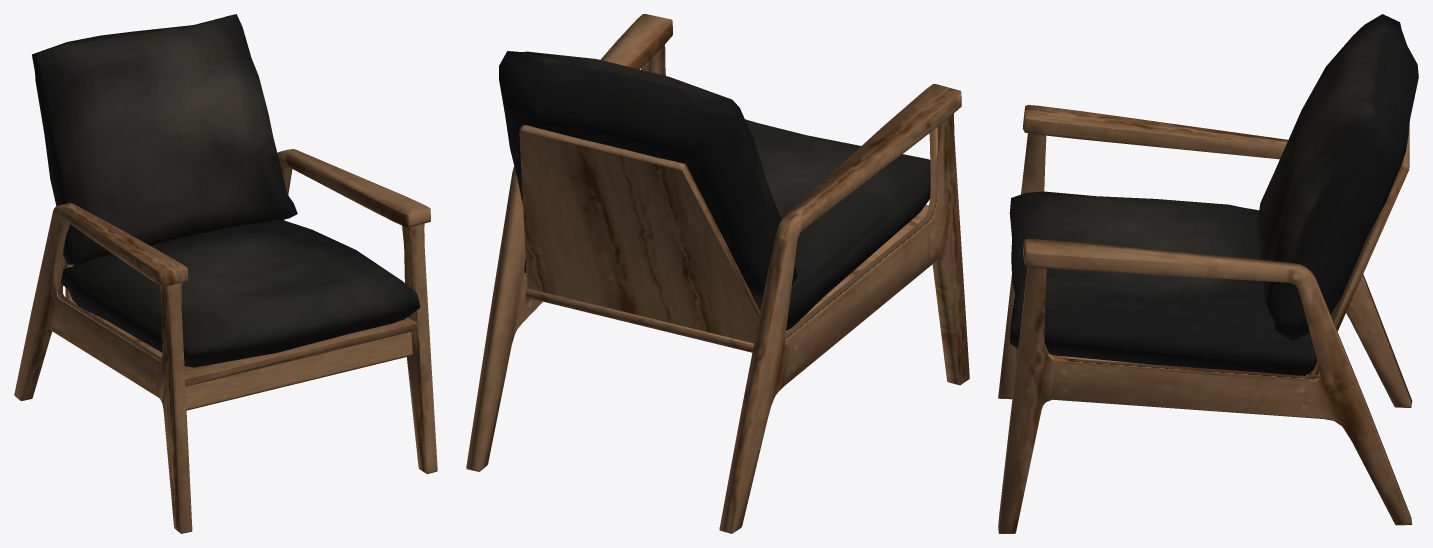
Rendered from armchair.glb.
3 renders of one model, left to right at view 1: azimuth 30°, elevation 25°; view 2: azimuth 150°, elevation 25°; view 3: azimuth 270°, elevation 25°, orthographic. The views are drawn at different scales.
Parts seen in each view (by area): view 1: modern_arm_chair_01; view 2: modern_arm_chair_01; view 3: modern_arm_chair_01.
Boxes of the visible parts, x1,y1,x2,y2 form: modern_arm_chair_01: (14, 14, 437, 533); modern_arm_chair_01: (466, 14, 969, 533); modern_arm_chair_01: (998, 14, 1418, 533).
Bounding box in the file's own units: 0.8203 × 1.02 × 0.9863.
Materials: 2 (2 with a texture image).
